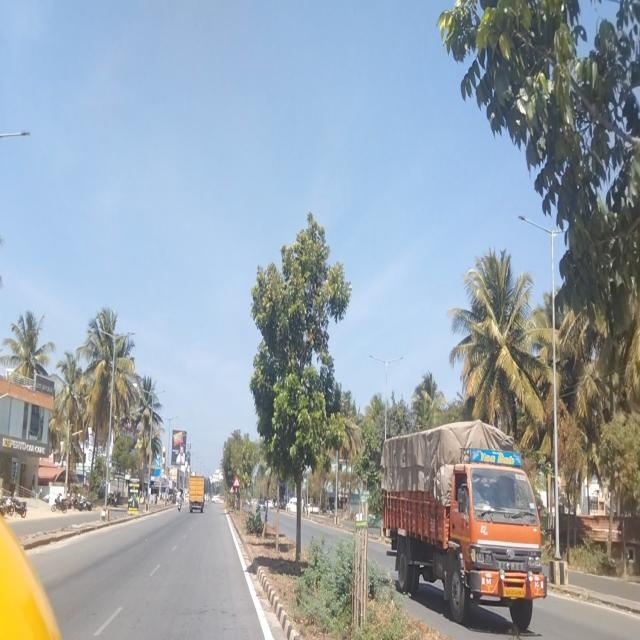bien_nguy_hiem: (233, 474, 240, 488), (230, 485, 234, 495)
